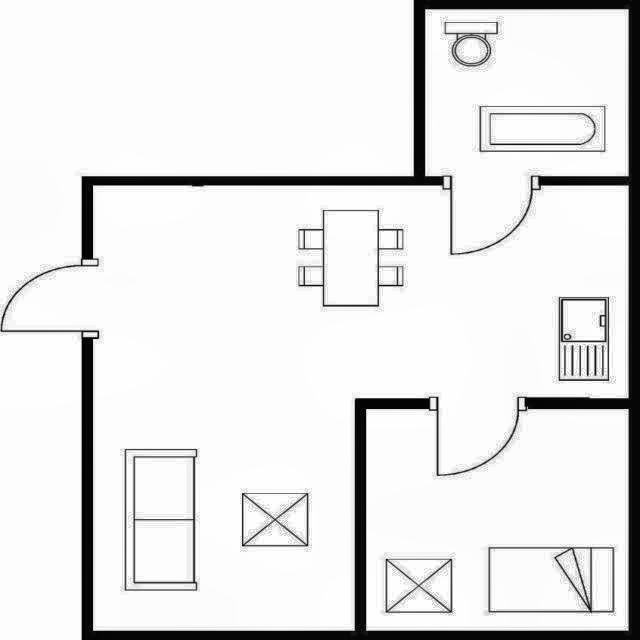room: (93, 186, 629, 631), (366, 409, 629, 631), (425, 9, 629, 177)
